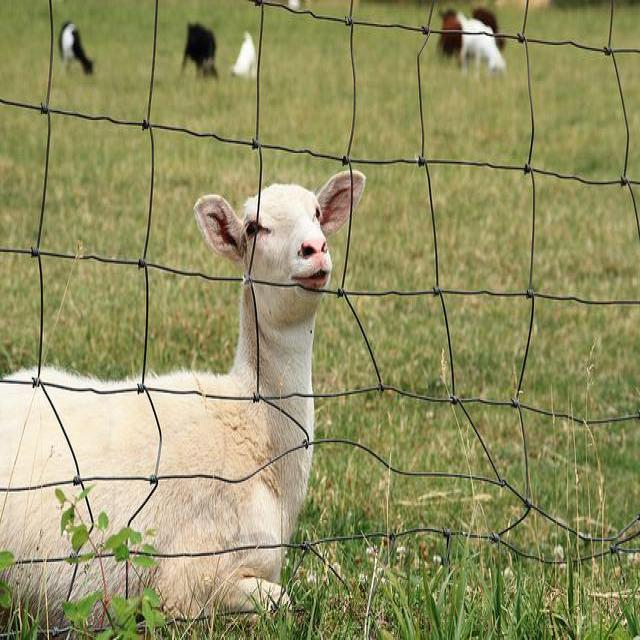Sheep: (3, 166, 369, 626), (456, 10, 507, 81), (181, 22, 219, 80), (61, 13, 96, 74)
